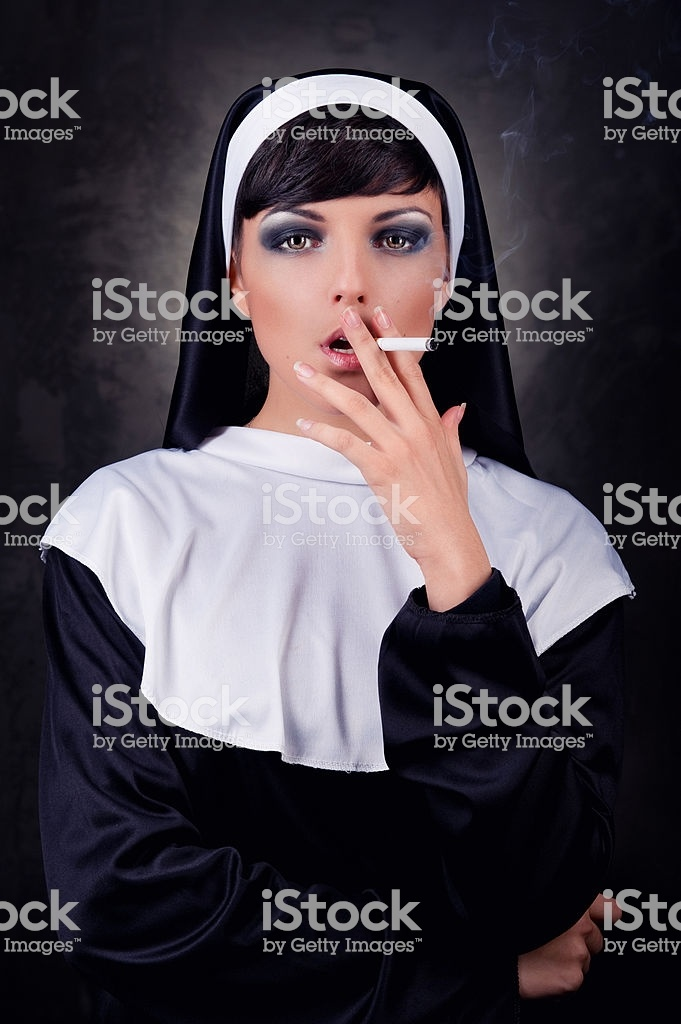sigaretta: (340, 333, 432, 356)
